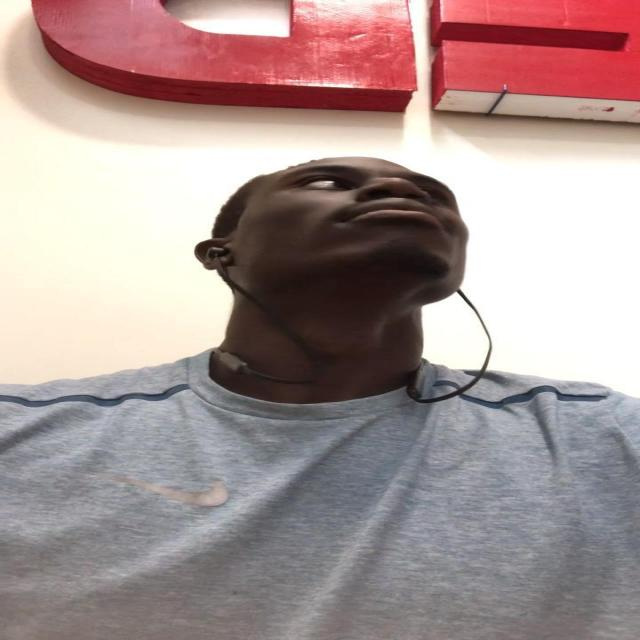face: (222, 167, 471, 299)
